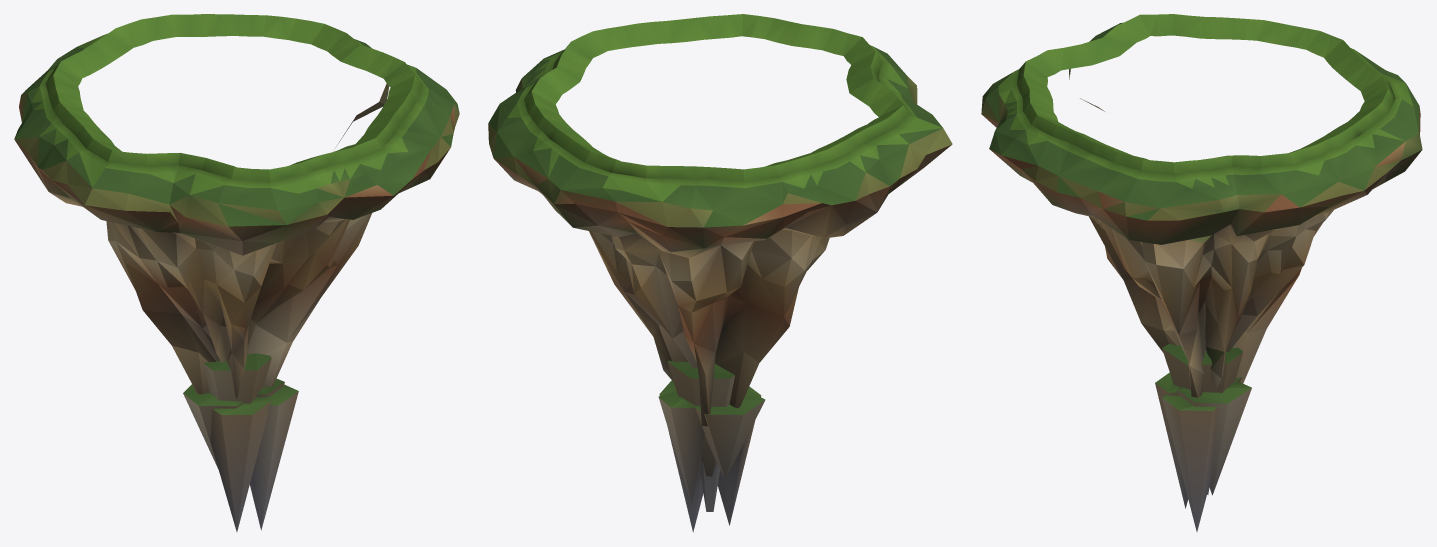
File: FarPeakRock.glb
3 views of the same model, side by side, from view 1: azimuth 30°, elevation 25°; view 2: azimuth 150°, elevation 25°; view 3: azimuth 270°, elevation 25° (orthographic). The views are drawn at different scales.
Visible parts, largest first — view 1: PeakRock; view 2: PeakRock; view 3: PeakRock.
Part boxes in pixels (left/top/right/bottom): PeakRock: left=14, top=14, right=459, bottom=531; PeakRock: left=488, top=14, right=952, bottom=532; PeakRock: left=981, top=14, right=1422, bottom=531.
Bounding box in the file's own units: 370 × 406 × 374.
